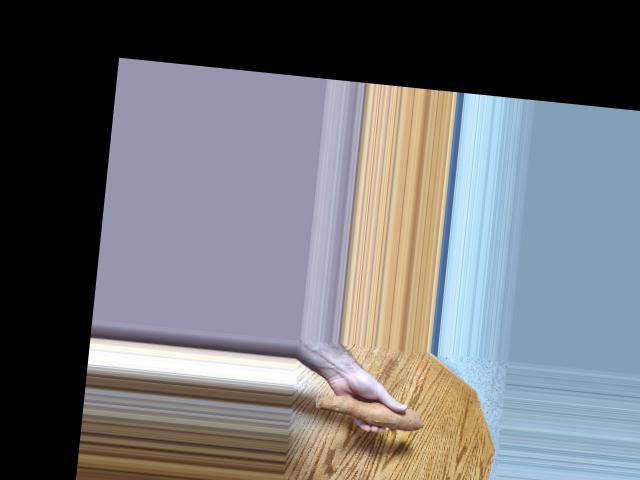sweet_potato: (308, 390, 427, 436)
